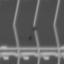dust: (27, 34, 32, 41), (32, 26, 38, 30)
